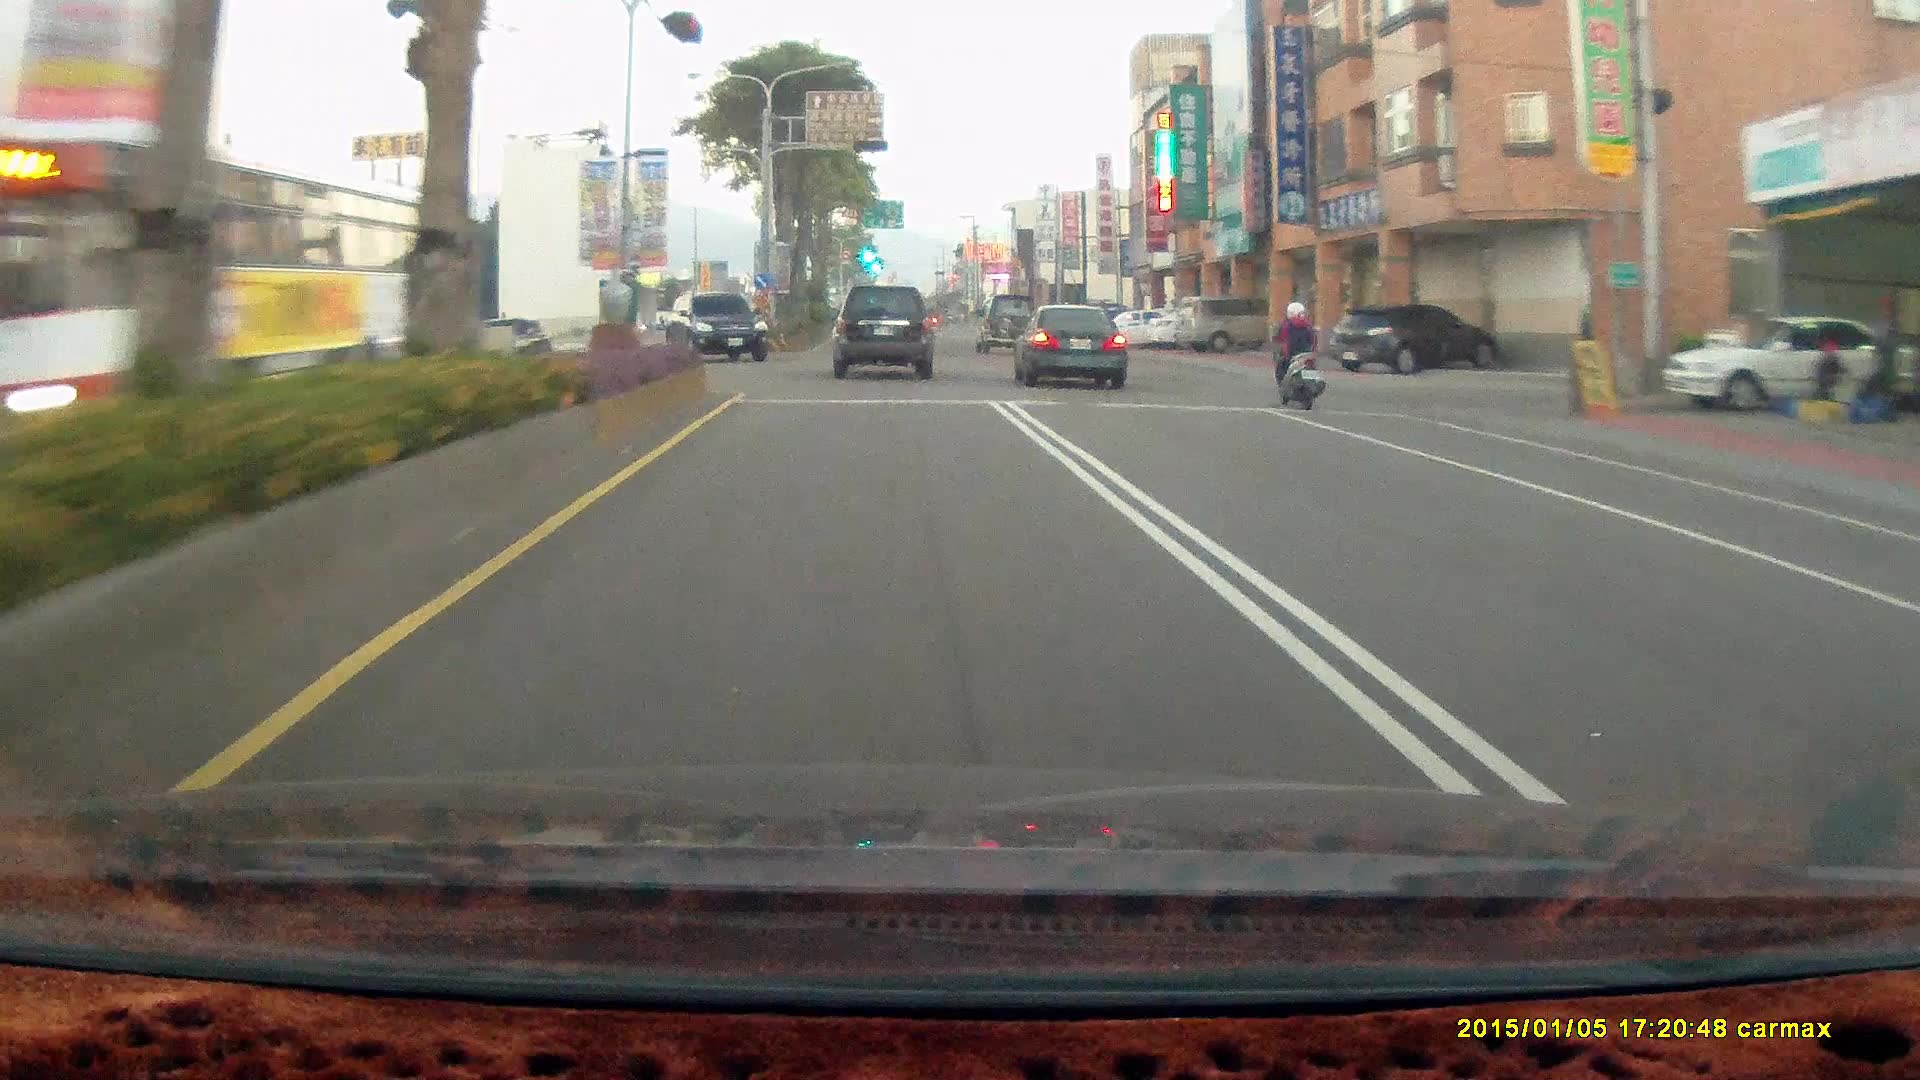pedestrian: (1870, 293, 1902, 415), (1811, 336, 1843, 410)
rider: (1257, 290, 1337, 420), (1267, 299, 1325, 408)
vehicle: (0, 120, 480, 460), (31, 126, 447, 420), (1660, 311, 1905, 410), (1666, 312, 1904, 412), (1325, 302, 1498, 373), (1328, 300, 1497, 370), (1011, 298, 1131, 387), (1008, 299, 1127, 385), (831, 281, 938, 376), (830, 282, 932, 377), (665, 290, 769, 364), (664, 288, 769, 358), (1172, 293, 1285, 354), (1174, 294, 1276, 355), (972, 289, 1039, 351), (1097, 305, 1183, 347)
